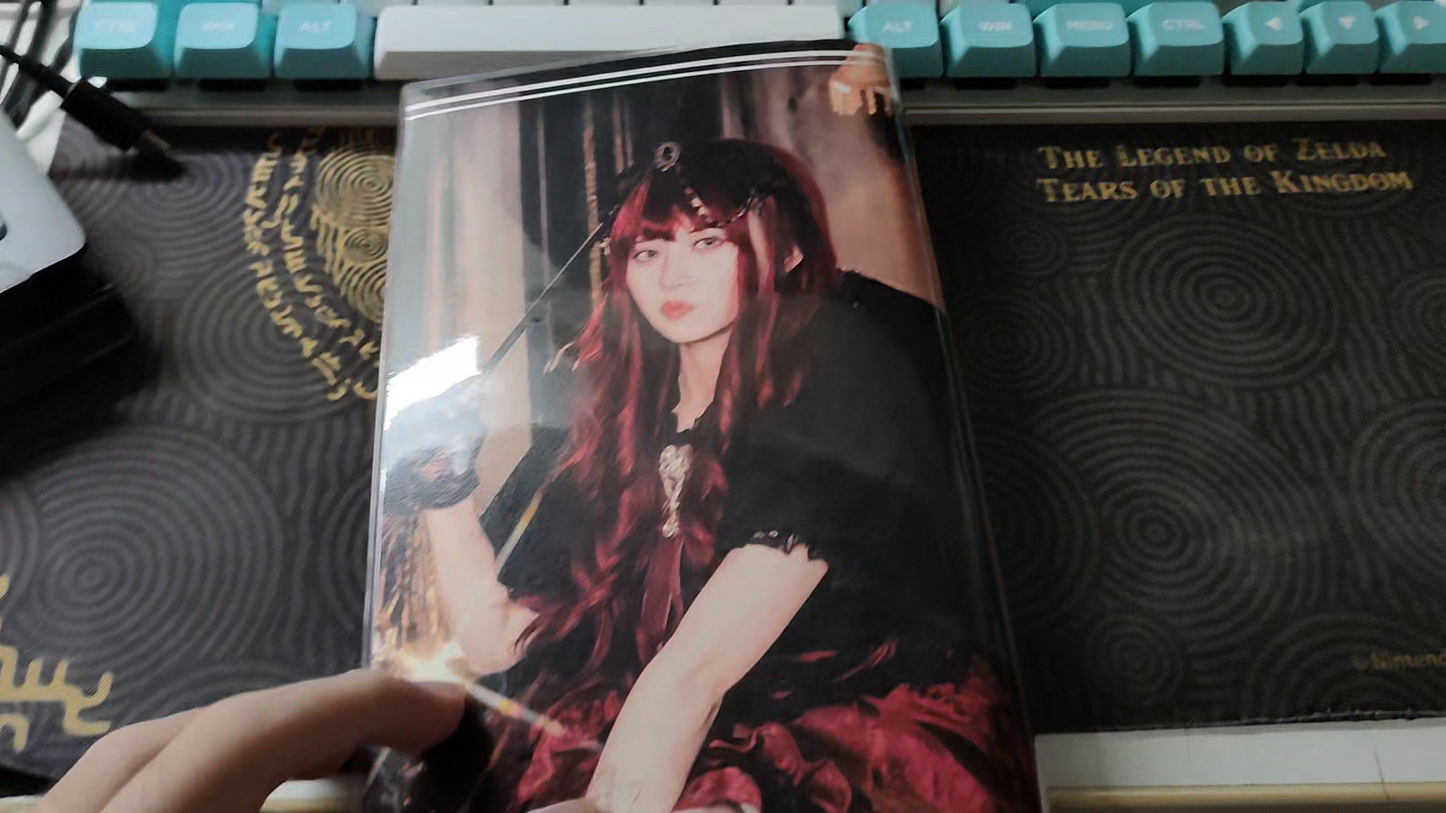Photo_book: (343, 40, 1051, 813)
